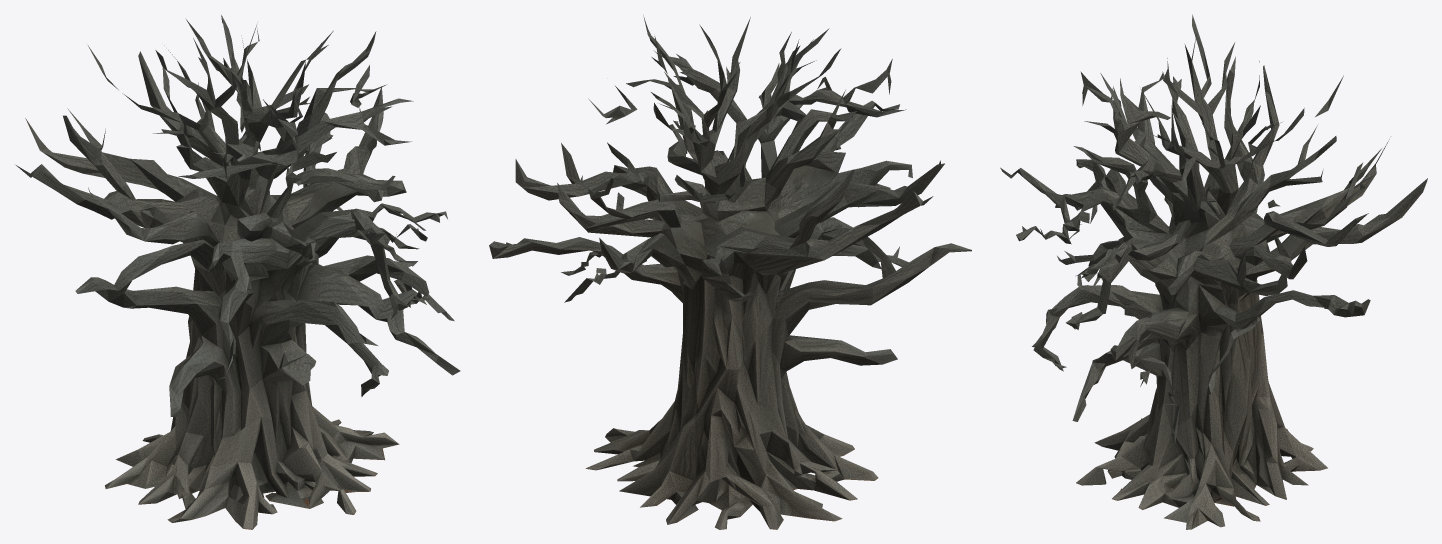
Rendered from broadleaf.glb.
3 renders of one model, left to right at view 1: azimuth 30°, elevation 25°; view 2: azimuth 150°, elevation 25°; view 3: azimuth 270°, elevation 25°, orthographic. The views are drawn at different scales.
Bounding box in the file's own units: 1.65 × 1.76 × 1.66.
Materials: 1 (1 with a texture image).
